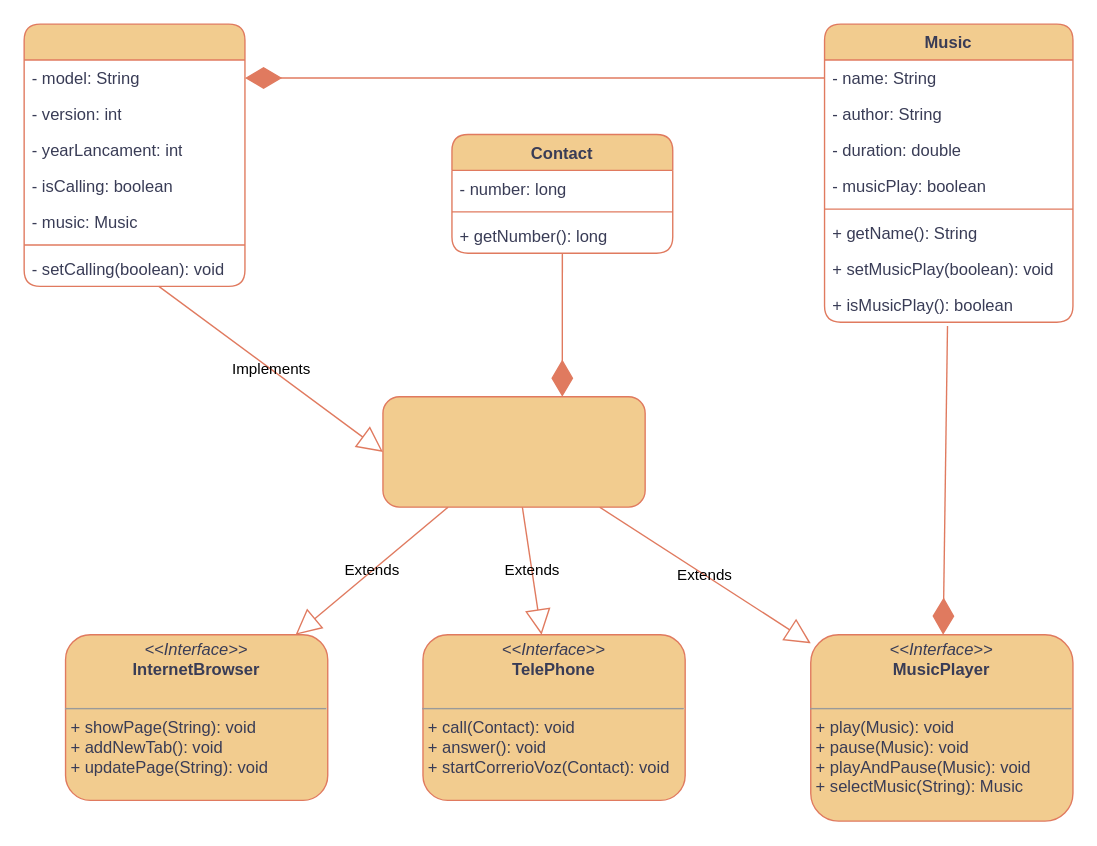
Image size: 1097x846. Some labels were removed from this diagram. The box of each missing label's shape, as (x1, y1, x2, y2) in pixels:
<<Interface>> mobilePhone + call(Contact): void: (382, 395, 645, 507)
Iphone: (23, 23, 245, 286)
